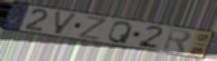2: (137, 25, 165, 50), (23, 8, 49, 34)
Q: (107, 21, 134, 45)
R: (161, 27, 193, 55)
V: (53, 10, 80, 36)
Z: (78, 15, 109, 42)
